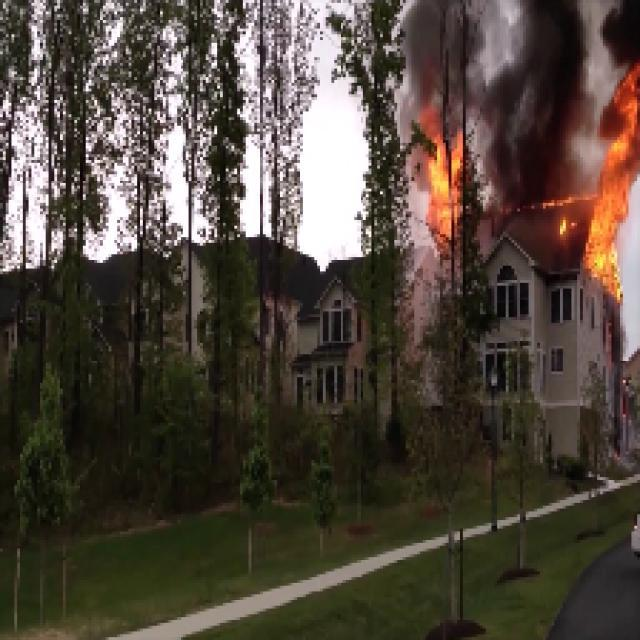Fire: (594, 110, 636, 292), (413, 138, 481, 240)
Smoke: (416, 1, 583, 129), (498, 132, 570, 210)
